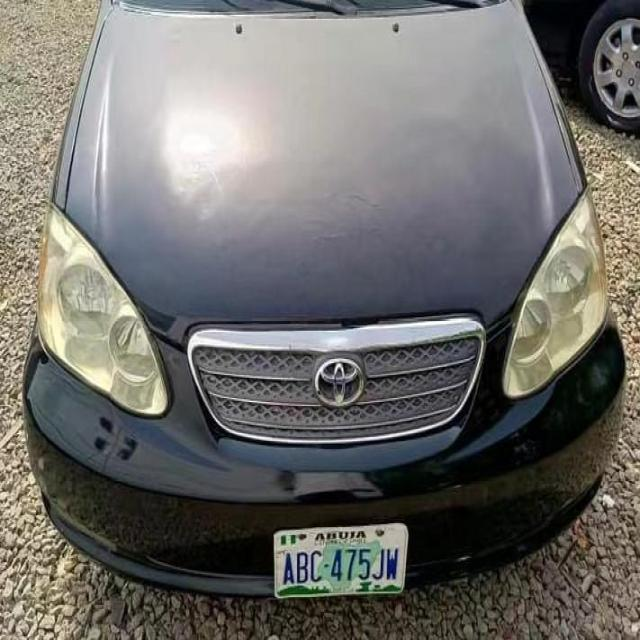Nigerian License Plate - vdataset benjamin-daria: (271, 522, 411, 605)
